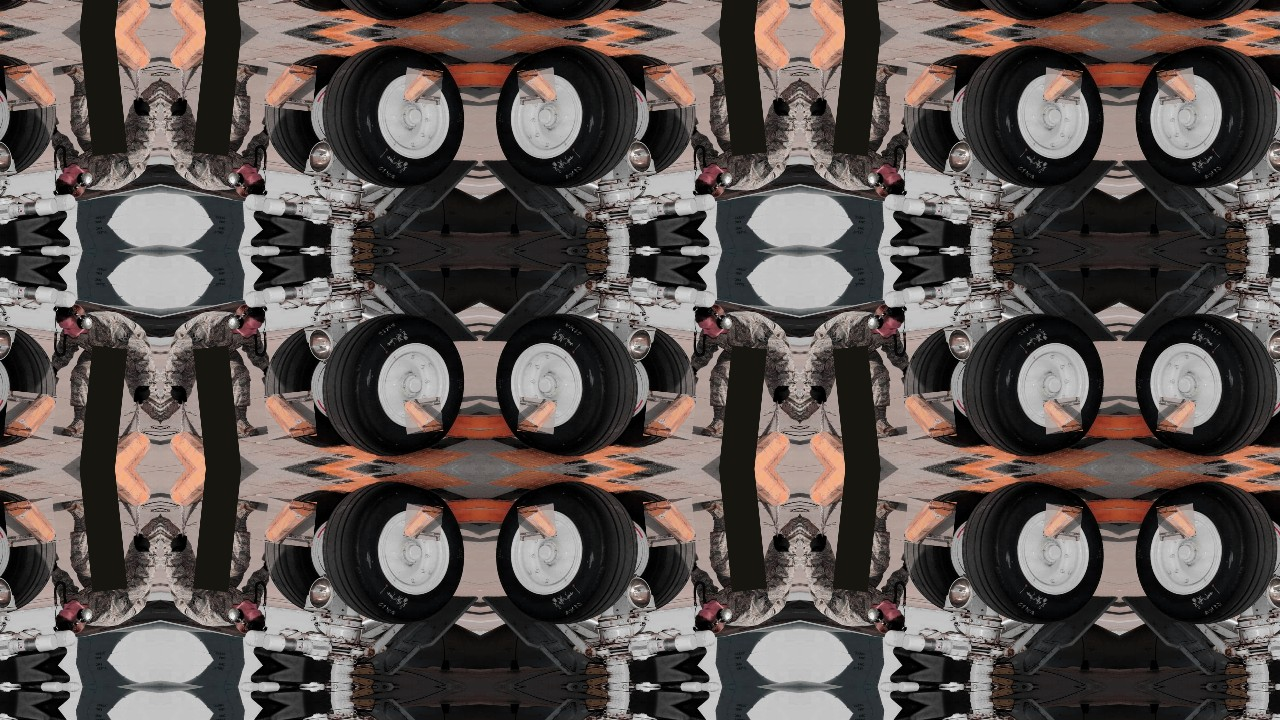chock: (73, 33, 152, 78), (168, 33, 247, 78), (713, 33, 792, 78), (808, 33, 887, 78), (73, 424, 152, 469), (168, 424, 247, 469), (713, 424, 792, 469), (808, 424, 887, 469), (73, 469, 152, 514), (168, 469, 247, 514), (713, 469, 792, 514), (808, 469, 887, 514), (3, 390, 56, 441), (264, 390, 317, 441), (643, 390, 696, 441), (904, 390, 957, 441), (3, 497, 56, 548), (264, 497, 317, 548), (643, 497, 696, 548), (904, 497, 957, 548), (3, 61, 56, 111), (264, 61, 317, 111), (643, 61, 696, 111), (904, 61, 957, 111), (73, 0, 152, 32), (168, 0, 247, 32), (713, 0, 792, 32), (808, 0, 887, 32), (403, 67, 443, 105), (517, 67, 557, 105), (1043, 67, 1083, 105), (1157, 67, 1197, 105), (403, 397, 443, 435), (517, 397, 557, 435), (1043, 397, 1083, 435), (1157, 397, 1197, 435), (403, 503, 443, 541), (517, 503, 557, 541), (1043, 503, 1083, 541), (1157, 503, 1197, 541), (3, 0, 56, 4), (264, 0, 317, 4), (643, 0, 696, 4), (904, 0, 957, 4)
wheel: (314, 307, 469, 461), (491, 307, 646, 461), (954, 307, 1109, 461), (314, 477, 469, 631), (491, 477, 646, 631), (954, 477, 1109, 631), (314, 41, 469, 194), (491, 41, 646, 194), (954, 41, 1109, 194), (1131, 307, 1280, 461), (1131, 477, 1280, 631), (1131, 41, 1280, 194), (259, 49, 351, 180), (609, 49, 701, 180), (899, 49, 991, 180), (259, 322, 351, 452), (609, 322, 701, 452), (899, 322, 991, 452), (259, 486, 351, 616), (609, 486, 701, 616), (899, 486, 991, 616), (0, 49, 61, 180), (0, 322, 61, 452), (0, 486, 61, 616), (1249, 49, 1280, 180), (1249, 322, 1280, 452), (1249, 486, 1280, 616), (314, 0, 469, 24), (491, 0, 646, 24), (954, 0, 1109, 24), (1131, 0, 1280, 24), (259, 0, 351, 16), (609, 0, 701, 16), (899, 0, 991, 16), (0, 0, 61, 16)
